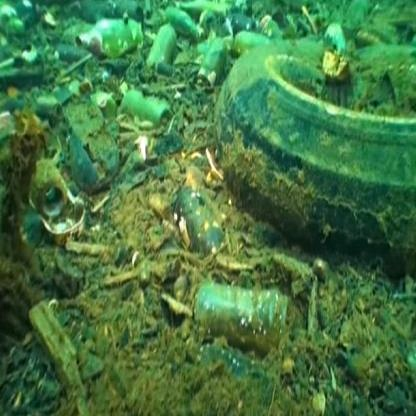gbottle: (167, 181, 226, 268), (132, 76, 176, 146), (155, 18, 183, 72), (196, 37, 219, 94)
pbottle: (195, 281, 305, 364)
tire: (247, 52, 416, 285)
